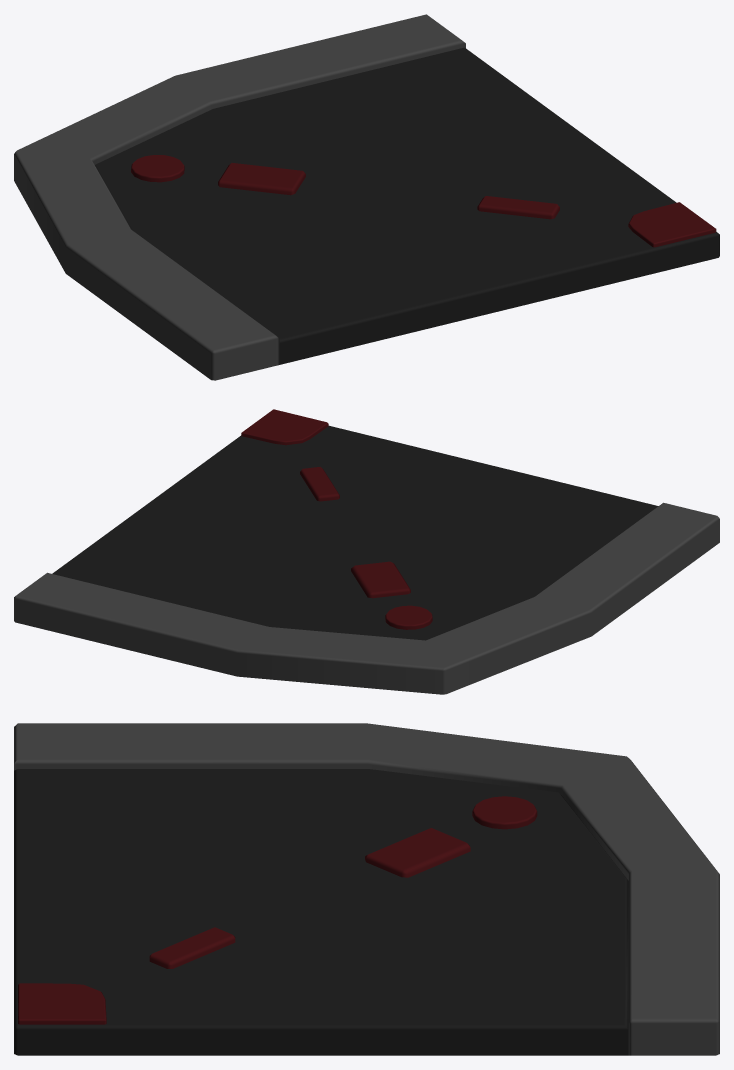
The model's file is colony_Tile_track4.glb.
3 renders of one model, top to bottom at view 1: azimuth 30°, elevation 25°; view 2: azimuth 150°, elevation 25°; view 3: azimuth 270°, elevation 25°, orthographic. The views are drawn at different scales.
Parts seen in each view (by area): view 1: Tile_track4; view 2: Tile_track4; view 3: Tile_track4.
Boxes of the visible parts, left/top/right/bottom form: Tile_track4: left=14, top=14, right=719, bottom=380; Tile_track4: left=14, top=409, right=719, bottom=694; Tile_track4: left=14, top=723, right=719, bottom=1055.
Bounding box in the file's own units: 180 × 10.17 × 180.
Materials: 1 (1 with a texture image).
